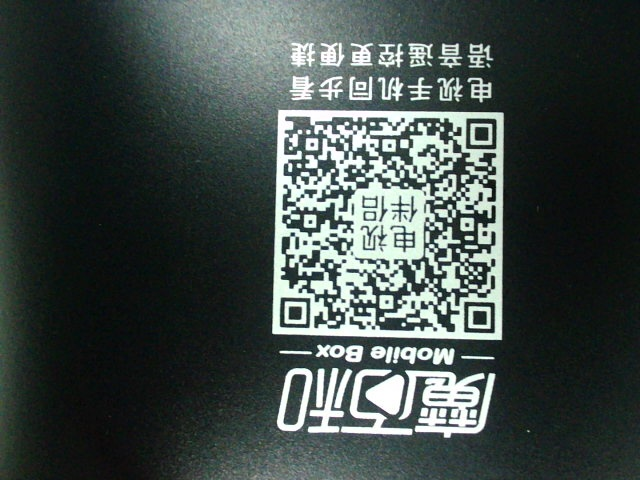AZ_MobileBox: (257, 34, 514, 437)
